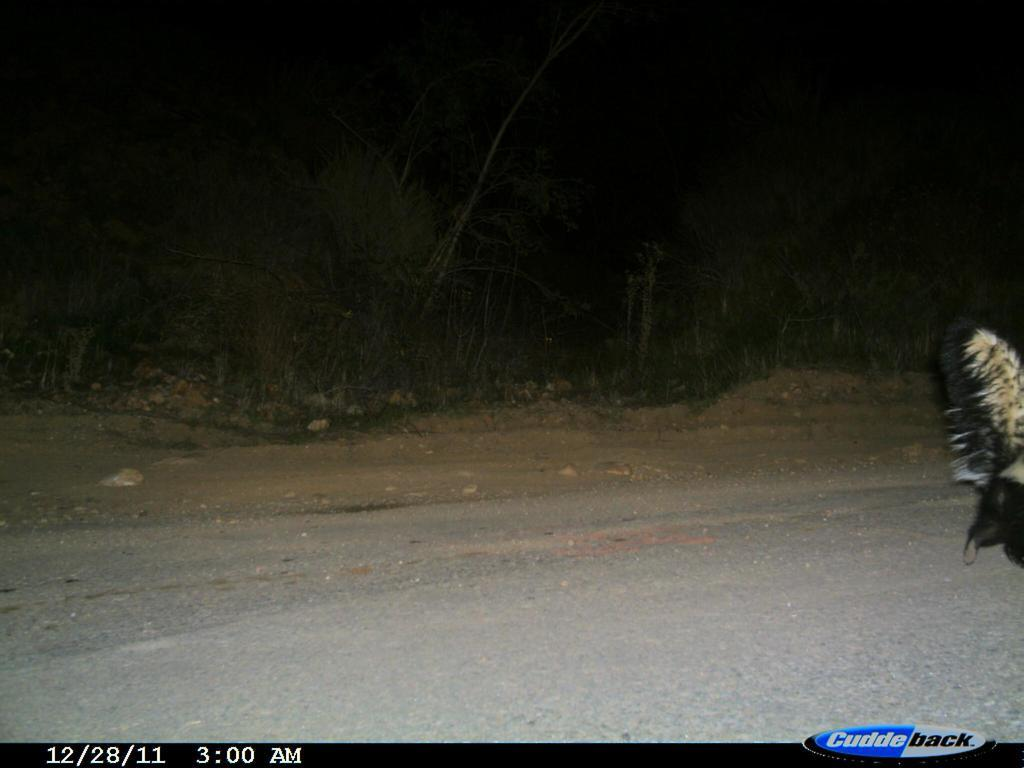skunk: (926, 306, 1023, 575)
